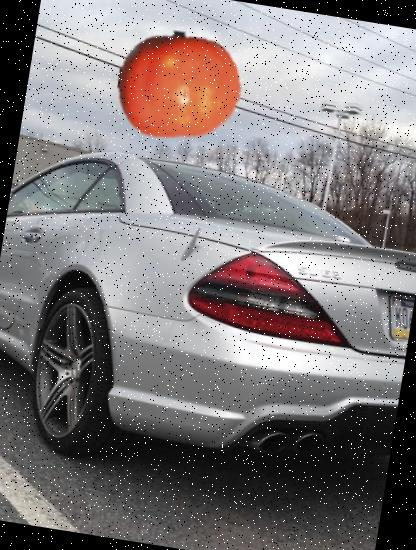Clementine: (110, 16, 250, 156)
